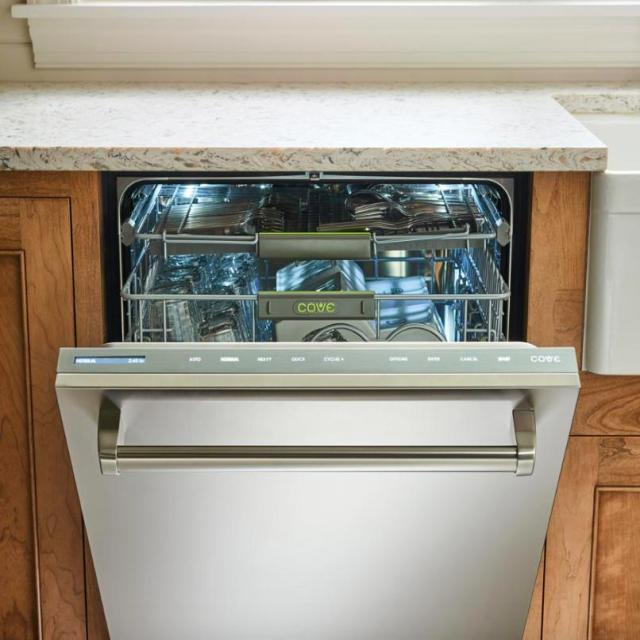dishwasher: (55, 170, 579, 639)
